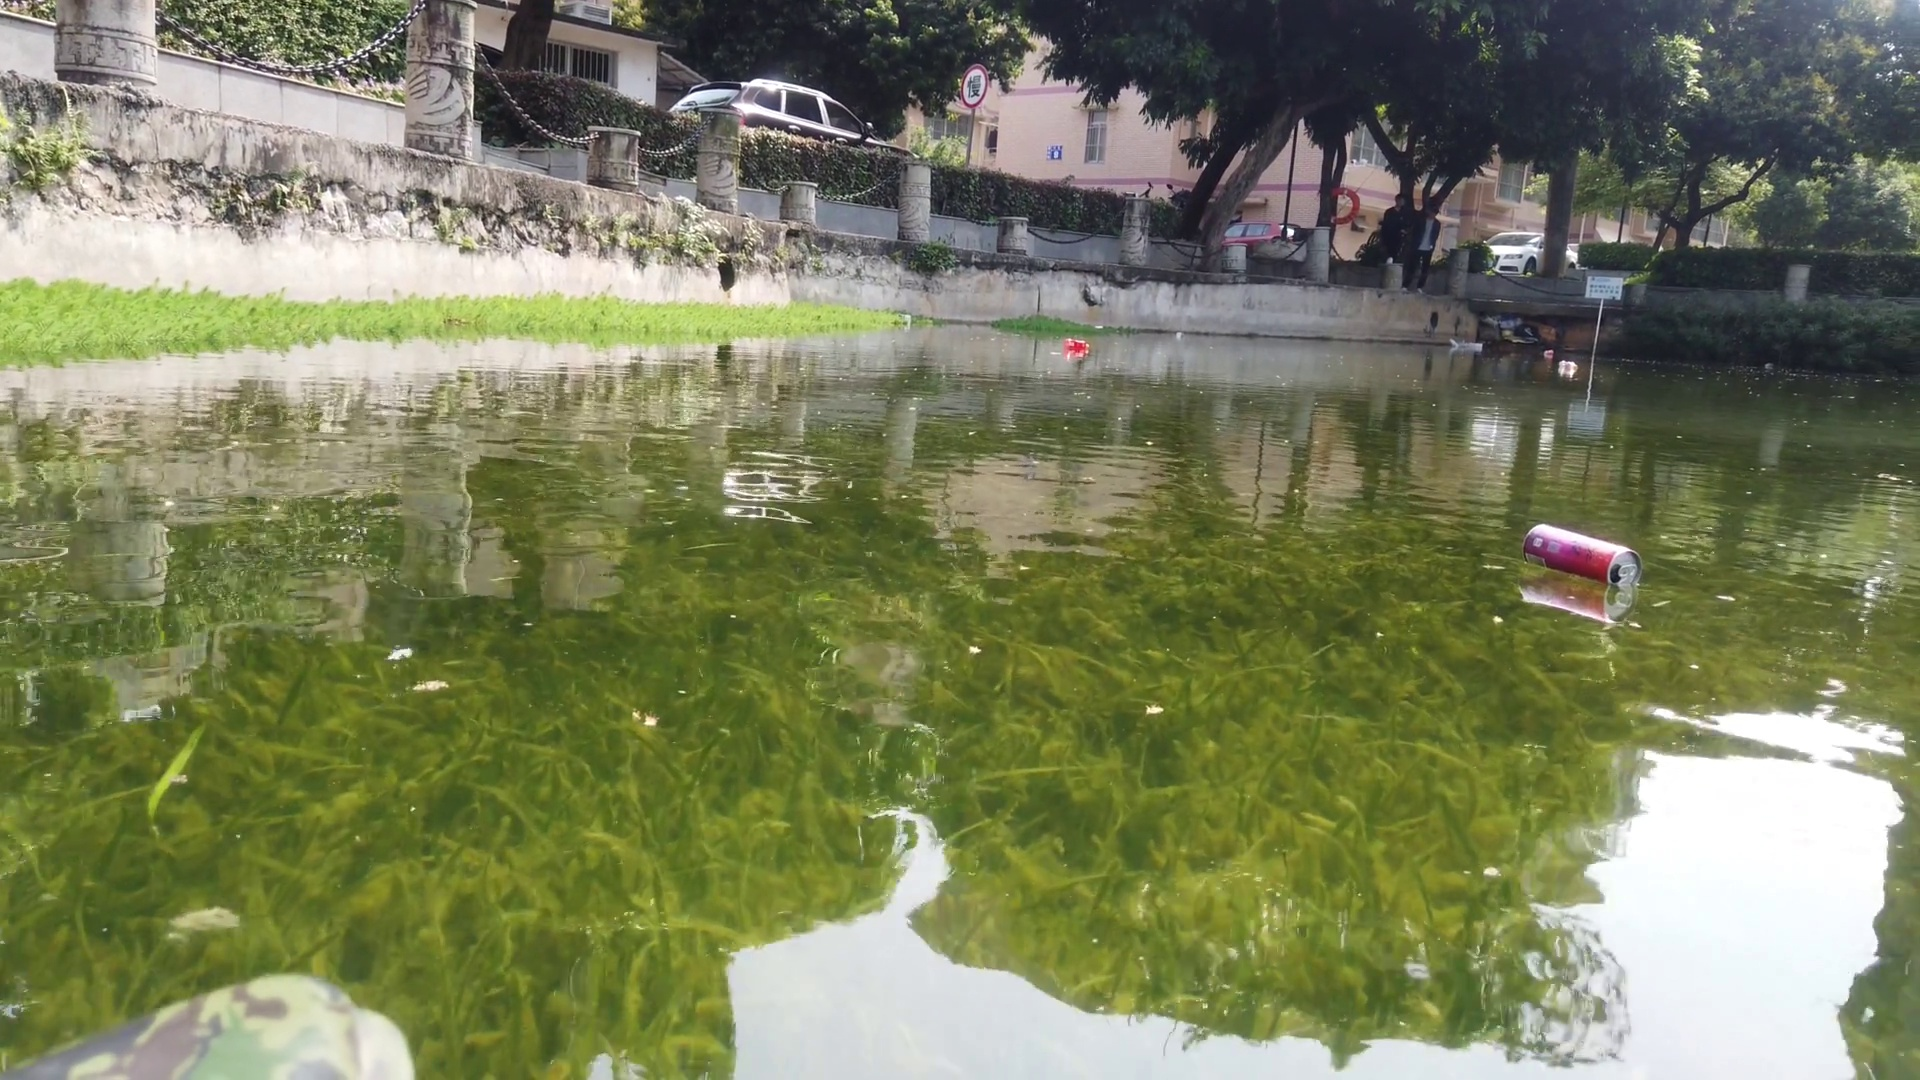bottle: (1515, 520, 1651, 593), (1064, 334, 1095, 357), (1556, 360, 1582, 373), (1540, 347, 1560, 357)
carton: (895, 313, 914, 328), (1172, 328, 1187, 340), (1466, 343, 1484, 352)
plastic: (1449, 335, 1470, 352)
